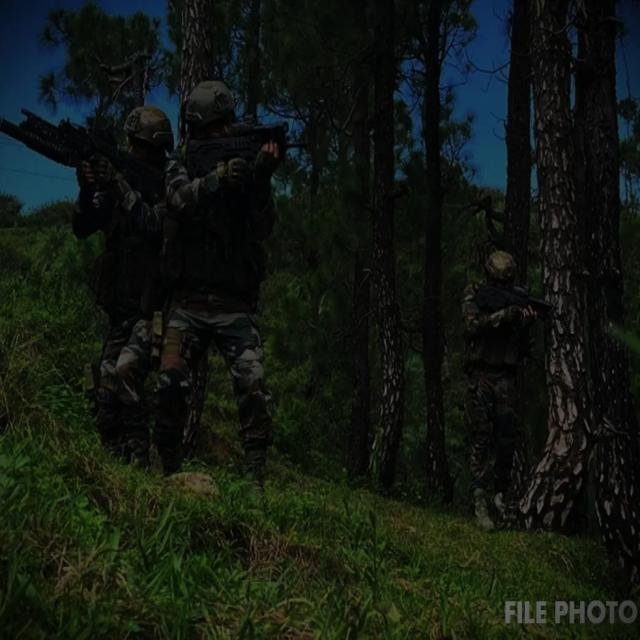Forest: (0, 0, 640, 640), (62, 82, 219, 469), (160, 61, 288, 486), (447, 235, 562, 541)
